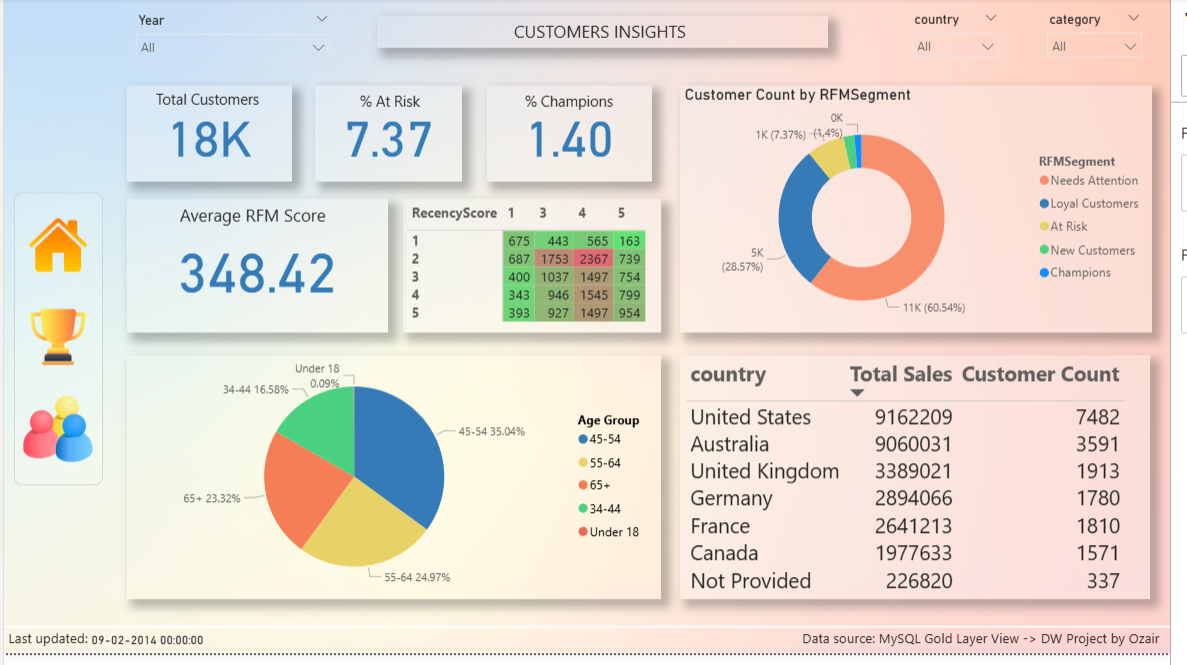

The dashboard page shown, as its layout file describes it:
{"tool":"powerbi","page":{"name":"2 - Customer Insight ","canvas":[1280,720],"ordinal":1},"visuals":[{"type":"pieChart","fields":{"Y":["Key Measures.Customer Count"],"Category":["gold_dim_customers.Age Group"]},"box":[133.8,392.6,587.4,267.7],"z":0},{"type":"tableEx","fields":{"Values":["gold_dim_customers.country","Key Measures.Total Sales","Key Measures.Customer Count"]},"box":[742,392.6,516,267.7],"z":1000},{"type":"textbox","box":[10.7,214,97.3,321.9],"z":2000},{"type":"image","box":[17.9,232.6,83,77.2],"z":3000},{"type":"image","box":[16.5,335.6,85.8,73],"z":4000},{"type":"image","box":[16.5,431.4,85.8,85.8],"z":5000},{"type":"shape","box":[0,685.2,1280,12.9],"z":6000},{"type":"textbox","box":[870.9,689.5,409.1,30],"z":7000},{"type":"textbox","box":[0,689.5,107.3,30],"z":8000},{"type":"card","fields":{"Values":["Key Measures.LastRefreshDate"]},"box":[74.4,692.4,167.4,27.2],"z":9000},{"type":"slicer","fields":{"Values":["gold_dim_customers.country"]},"box":[987,10,115.9,65.8],"z":10000},{"type":"slicer","fields":{"Values":["gold_dim_products.category"]},"box":[1134.4,10,124.5,65.8],"z":11000},{"type":"textbox","box":[409.3,19.4,496,35.9],"z":12000},{"type":"slicer","fields":{"Values":["DateTable.Date.Variation.Date Hierarchy.Year"]},"box":[133.8,10.4,233.5,55],"z":13000},{"type":"pivotTable","fields":{"Rows":["gold_dim_customers.RecencyScore"],"Columns":["gold_dim_customers.FrequencyScore"],"Values":["Key Measures.Customer Count"]},"box":[437.2,221.6,284,147.2],"z":14000},{"type":"donutChart","fields":{"Category":["gold_dim_customers.RFMSegment"],"Y":["Key Measures.Customer Count"]},"box":[742,96.7,517.5,272.1],"z":15000},{"type":"card","fields":{"Values":["Key Measures.% Champions"]},"box":[529.4,96.7,181.4,105.6],"z":16000},{"type":"card","fields":{"Values":["Key Measures.% At Risk"]},"box":[342,96.7,160.6,105.6],"z":17000},{"type":"card","fields":{"Values":["Key Measures.Average RFMScore"]},"box":[133.8,221.6,287,147.2],"z":18000},{"type":"card","fields":{"Values":["Key Measures.Customer Count"]},"box":[133.8,96.7,181.4,105.6],"z":19000},{"type":"textbox","box":[187.4,221.6,182.9,38.7],"z":20000},{"type":"textbox","box":[162.1,94.2,136.8,40.1],"z":21000},{"type":"textbox","box":[385.1,97.9,95.2,32.7],"z":22000},{"type":"textbox","box":[566.5,97.9,130.9,32.7],"z":23000}]}

Visuals, with their boxes in screenshot pixels (x1, y1, x2, y2), scaled from the page's 1280x720 canvas onto the 1187x665 screenshot:
pieChart - Key Measures.Customer Count x gold_dim_customers.Age Group: {"x1": 124, "y1": 363, "x2": 669, "y2": 610}
tableEx - gold_dim_customers.country x Key Measures.Total Sales: {"x1": 688, "y1": 363, "x2": 1167, "y2": 610}
textbox: {"x1": 10, "y1": 198, "x2": 100, "y2": 495}
image: {"x1": 17, "y1": 215, "x2": 94, "y2": 286}
image: {"x1": 15, "y1": 310, "x2": 95, "y2": 377}
image: {"x1": 15, "y1": 398, "x2": 95, "y2": 478}
shape: {"x1": 0, "y1": 633, "x2": 1186, "y2": 645}
textbox: {"x1": 808, "y1": 637, "x2": 1186, "y2": 664}
textbox: {"x1": 0, "y1": 637, "x2": 100, "y2": 664}
card - Key Measures.LastRefreshDate: {"x1": 69, "y1": 640, "x2": 224, "y2": 664}
slicer - gold_dim_customers.country: {"x1": 915, "y1": 9, "x2": 1023, "y2": 70}
slicer - gold_dim_products.category: {"x1": 1052, "y1": 9, "x2": 1167, "y2": 70}
textbox: {"x1": 380, "y1": 18, "x2": 840, "y2": 51}
slicer - DateTable.Date.Variation.Date Hierarchy.Year: {"x1": 124, "y1": 10, "x2": 341, "y2": 60}
pivotTable - gold_dim_customers.RecencyScore x gold_dim_customers.FrequencyScore: {"x1": 405, "y1": 205, "x2": 669, "y2": 341}
donutChart - gold_dim_customers.RFMSegment x Key Measures.Customer Count: {"x1": 688, "y1": 89, "x2": 1168, "y2": 341}
card - Key Measures.% Champions: {"x1": 491, "y1": 89, "x2": 659, "y2": 187}
card - Key Measures.% At Risk: {"x1": 317, "y1": 89, "x2": 466, "y2": 187}
card - Key Measures.Average RFMScore: {"x1": 124, "y1": 205, "x2": 390, "y2": 341}
card - Key Measures.Customer Count: {"x1": 124, "y1": 89, "x2": 292, "y2": 187}
textbox: {"x1": 174, "y1": 205, "x2": 343, "y2": 240}
textbox: {"x1": 150, "y1": 87, "x2": 277, "y2": 124}
textbox: {"x1": 357, "y1": 90, "x2": 445, "y2": 121}
textbox: {"x1": 525, "y1": 90, "x2": 647, "y2": 121}
